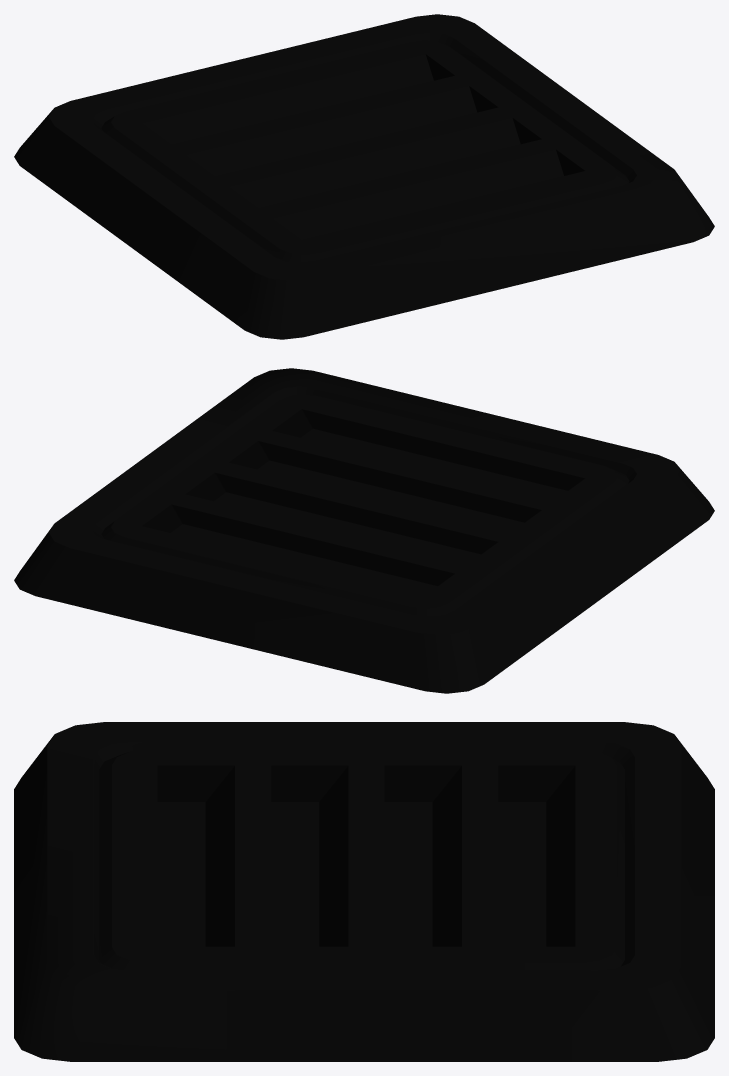
Rendered from air_vent.fbx.
The picture shows the model from 3 angles, top to bottom: view 1: azimuth 30°, elevation 25°; view 2: azimuth 150°, elevation 25°; view 3: azimuth 270°, elevation 25°; orthographic projection. The views are drawn at different scales.
Visible parts, largest first — view 1: Cube.011; view 2: Cube.011; view 3: Cube.011.
Boxes of the visible parts, bbox=[...] form: Cube.011: bbox=[14, 14, 714, 339]; Cube.011: bbox=[14, 368, 714, 693]; Cube.011: bbox=[14, 722, 714, 1061].
Bounding box in the file's own units: 347 × 31.38 × 347.
